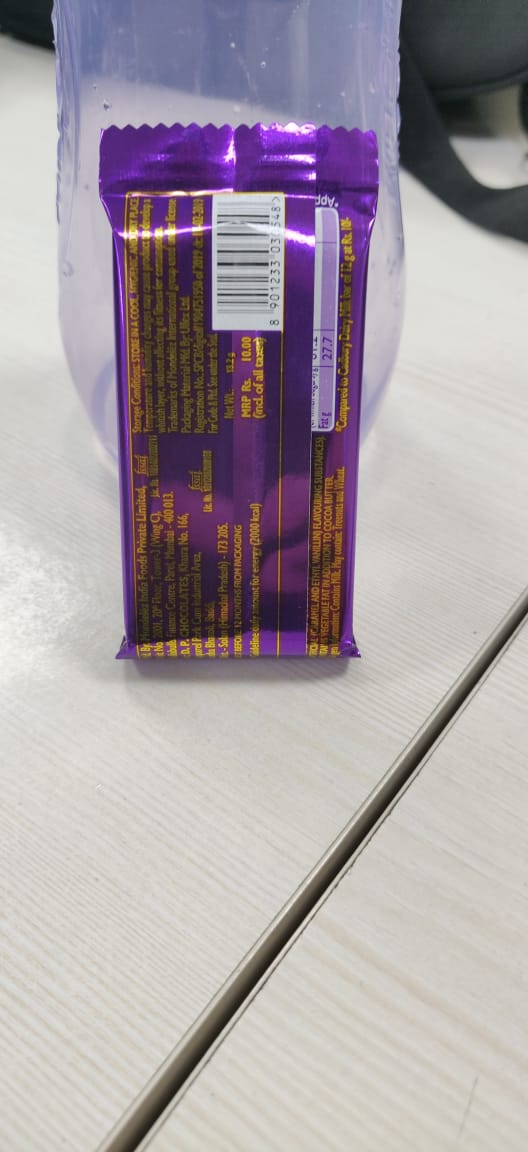dairy milk: (85, 113, 399, 684)
